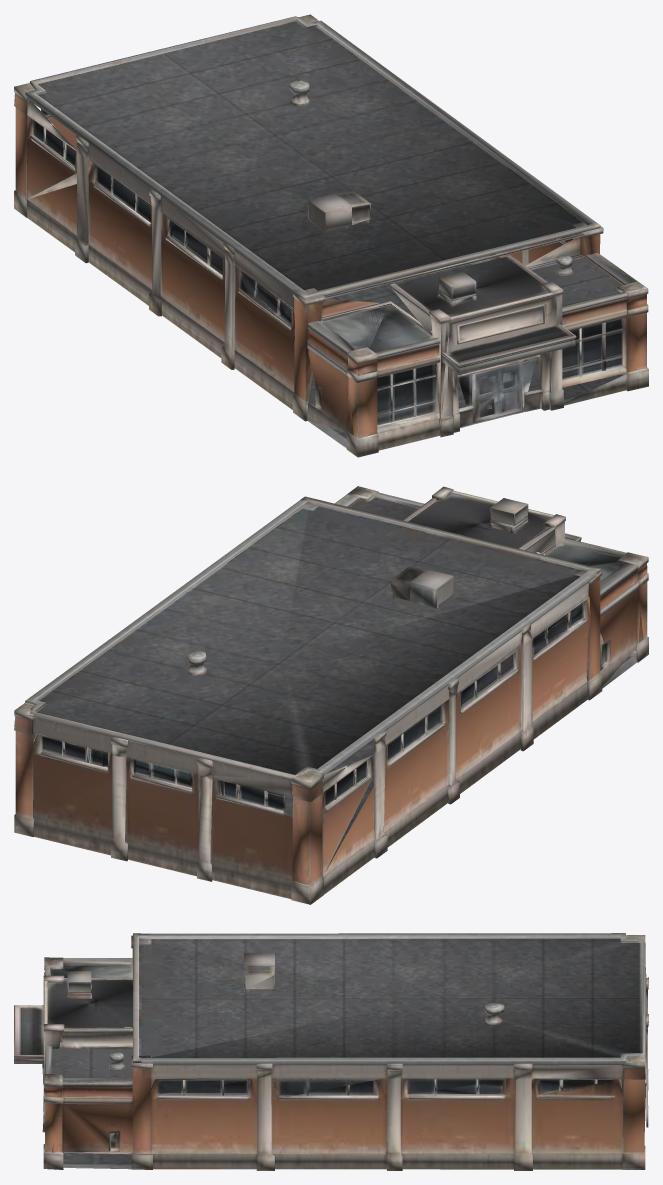
File: community-center.glb
3 views of the same model, one above another, from view 1: azimuth 30°, elevation 25°; view 2: azimuth 150°, elevation 25°; view 3: azimuth 270°, elevation 25° (orthographic). The views are drawn at different scales.
Size of the model in its own units: 0.4604 by 0.207 by 0.9517.
Materials: 1 (1 with a texture image).
